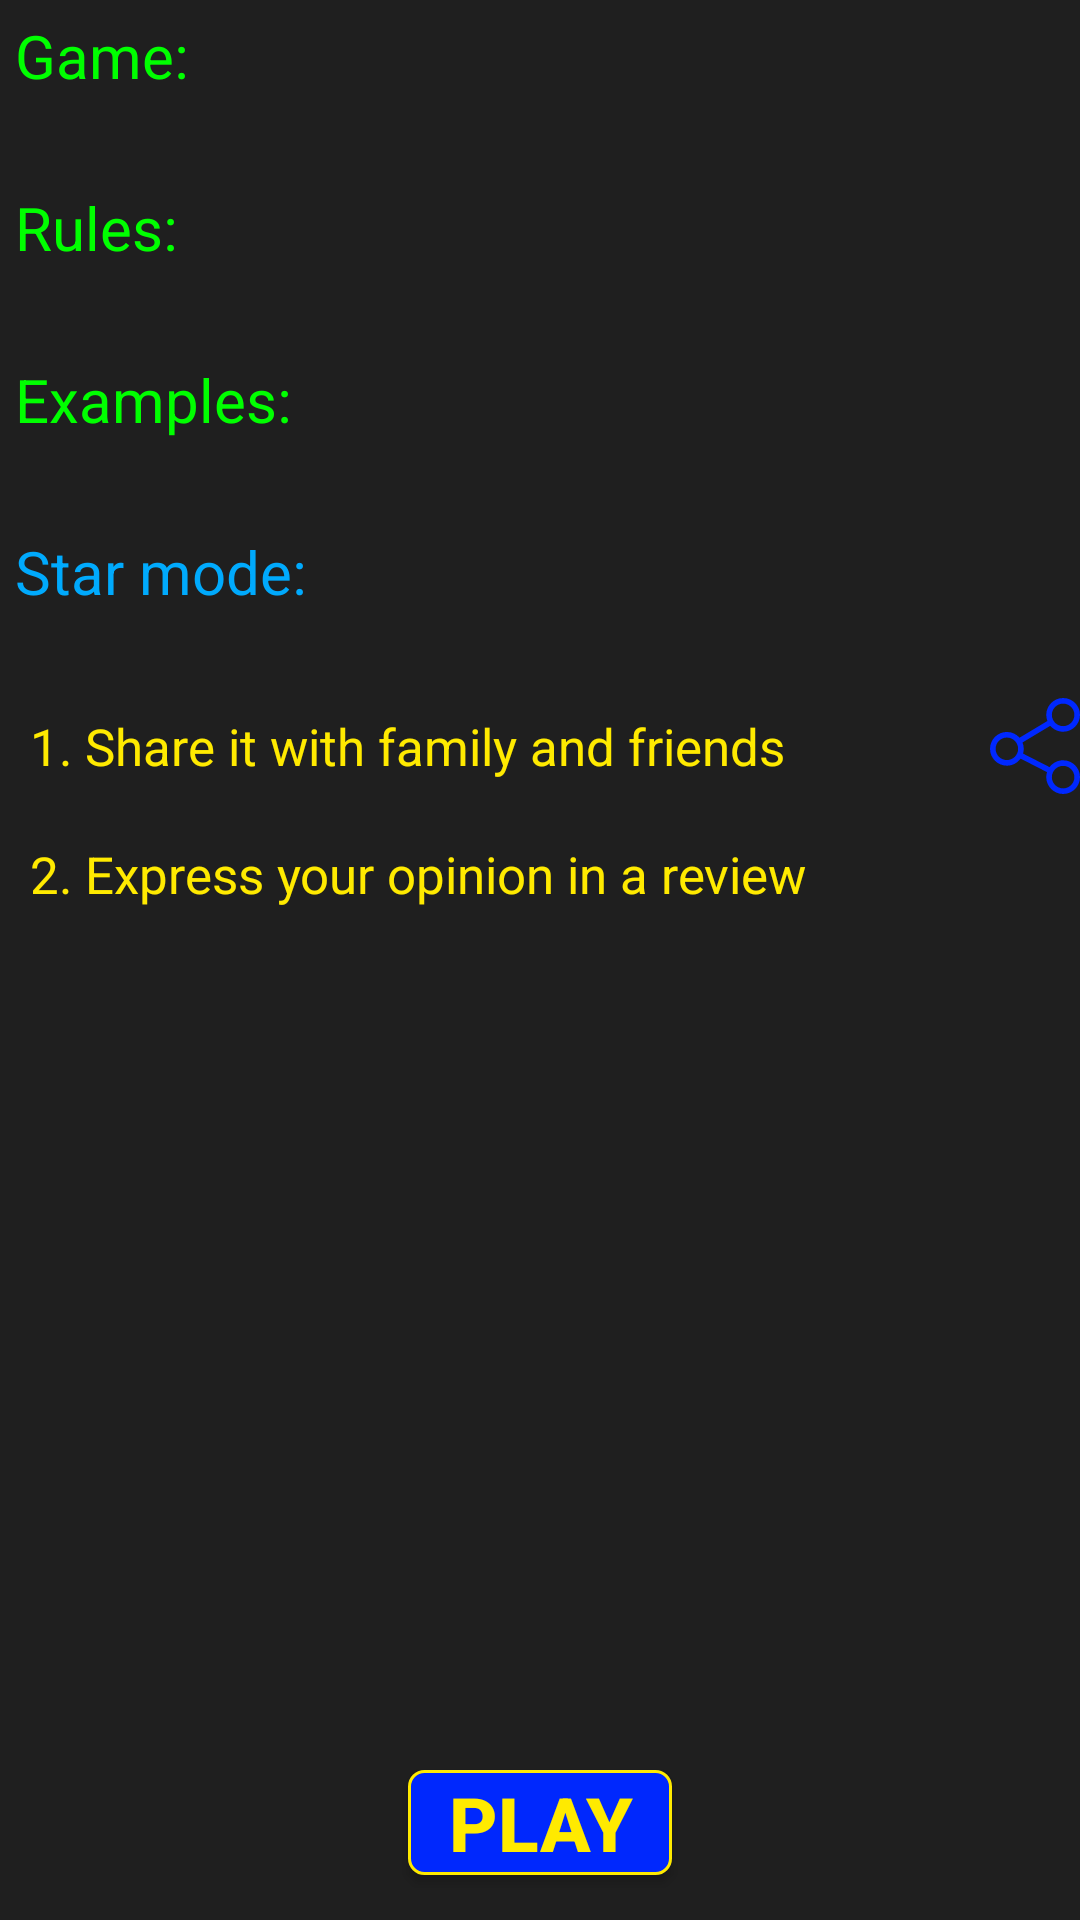

Where to tap for icons on this 1080 × 1920 app screen, as (x,y):
share: (1035,746)
